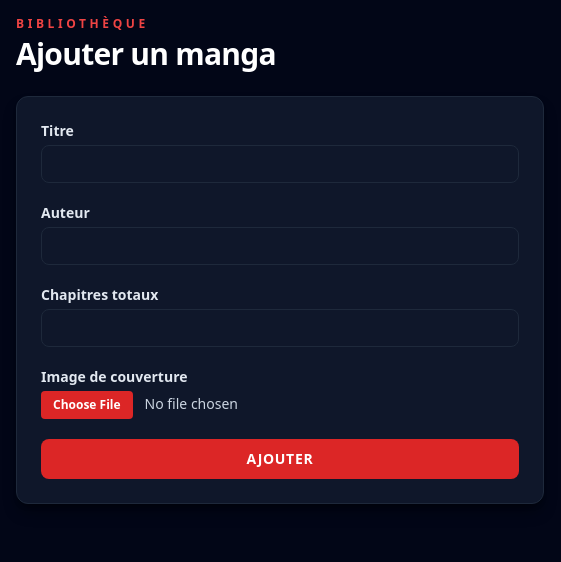
Test case: AddMangaPage — US2 Ajouter un manga › Scénario 2 — titre vide → erreur de validation
Click the button "Ajouter": x=280, y=459 [41, 439, 519, 479]
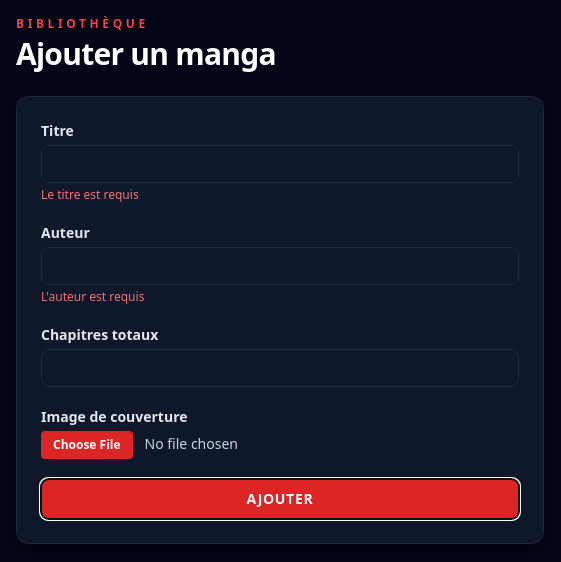
Now the text "Le titre est requis" is shown, box [41, 186, 139, 203]
